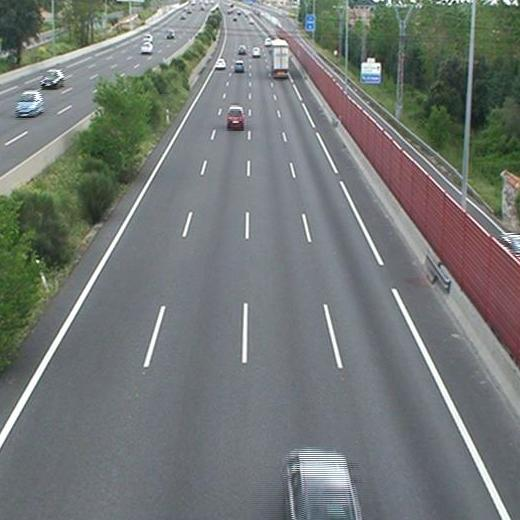car: (227, 107, 244, 129), (234, 61, 244, 73), (215, 58, 225, 69), (252, 47, 261, 56), (237, 45, 246, 54)
truck: (271, 40, 289, 77)
